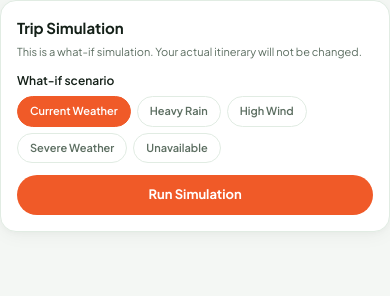
Test case: SimulationCard › shows error state on API failure
Click the button "Run Simulation" at (195, 195), box [17,175,373,214]
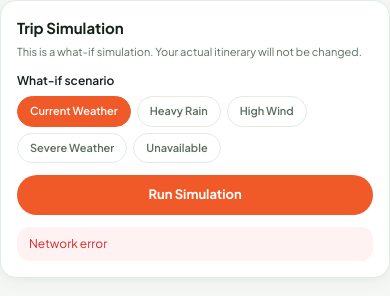
Expected: the text "Network error" is shown, [17,226,373,260]
